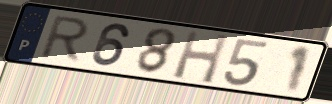1: (284, 45, 311, 96)
5: (221, 38, 272, 88)
6: (90, 22, 132, 68)
8: (135, 27, 178, 76)
H: (170, 29, 231, 86)
R: (36, 14, 93, 64)
